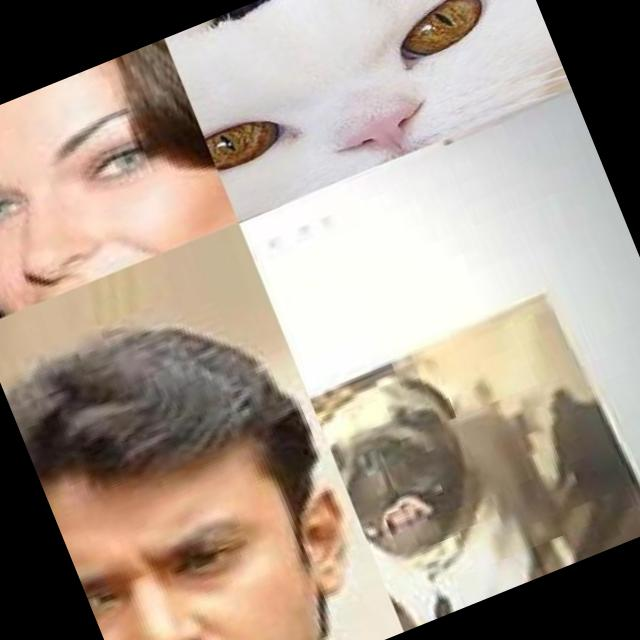bareface: (41, 405, 330, 640)
